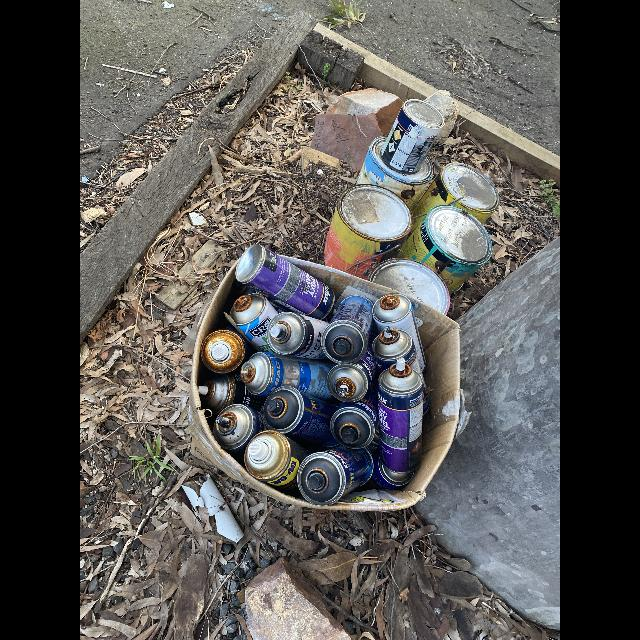Ferrous Metal: (324, 184, 413, 279), (401, 199, 492, 291), (236, 244, 334, 319), (410, 163, 498, 236), (375, 360, 424, 489), (356, 136, 434, 209), (368, 259, 450, 315), (383, 100, 445, 173), (240, 352, 334, 400), (297, 447, 373, 505), (263, 386, 337, 445), (373, 293, 424, 370), (244, 430, 308, 486), (321, 296, 373, 363), (226, 293, 280, 350), (266, 312, 328, 359), (213, 404, 263, 450), (330, 402, 376, 448), (201, 329, 246, 373), (372, 327, 416, 370), (327, 363, 371, 402), (202, 373, 244, 413)
